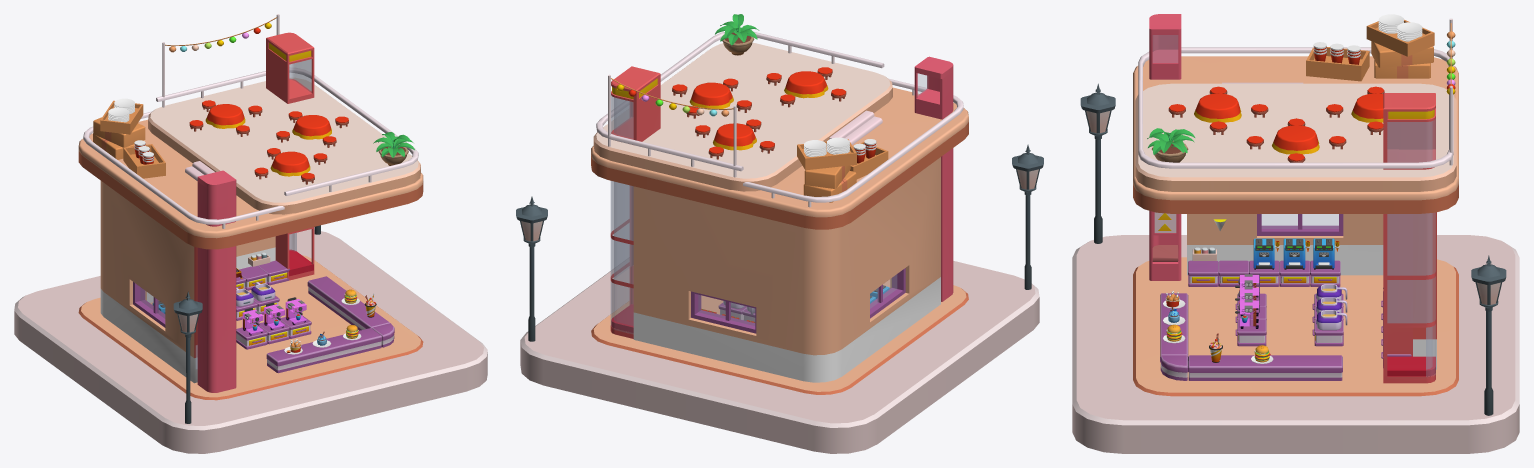
Rendered from Demo.fbx.
3 renders of one model, left to right at view 1: azimuth 30°, elevation 25°; view 2: azimuth 150°, elevation 25°; view 3: azimuth 270°, elevation 25°, orthographic. The views are drawn at different scales.
Parts seen in each view (by area): view 1: pCube12, polySurface241, polySurface11, pCube27, pCube11, Tm_food_1, Thang_may, Map02_Bantieptan1, polySurface242, Tm_food_2, Map02_Bantieptan2, polySurface243 (+13 smaller); view 2: polySurface11, pCube12, polySurface241, pCube27, Thang_may, pCube11, polySurface242, Tm_food_2, Tm_food_1, polySurface243, Map02_Decor_Thunggiay_14, Map02_Decor_Cotden3 (+12 smaller); view 3: pCube12, polySurface241, pCube11, pCube27, Thang_may, polySurface11, Map02_Bantieptan2, polySurface242, Tm_food_2, Map02_Decor_Thunggiay_13, Map02_Decor_Thunggiay_14, Map02_Decor_Cotden4 (+27 smaller).
Boxes of the visible parts, x1=… form: pCube12: x1=14, y1=229, x2=487, y2=453; polySurface241: x1=148, y1=78, x2=420, y2=214; polySurface11: x1=100, y1=181, x2=275, y2=383; pCube27: x1=78, y1=119, x2=423, y2=249; pCube11: x1=78, y1=255, x2=423, y2=400; Tm_food_1: x1=197, y1=246, x2=236, y2=392; Thang_may: x1=266, y1=32, x2=314, y2=280; Map02_Bantieptan1: x1=266, y1=328, x2=382, y2=373; polySurface242: x1=156, y1=67, x2=418, y2=195; Tm_food_2: x1=197, y1=170, x2=236, y2=226; Map02_Bantieptan2: x1=307, y1=276, x2=389, y2=330; polySurface243: x1=83, y1=111, x2=284, y2=224; polySurface11: x1=633, y1=157, x2=940, y2=382; pCube12: x1=520, y1=258, x2=1039, y2=453; polySurface241: x1=593, y1=42, x2=892, y2=191; pCube27: x1=591, y1=87, x2=968, y2=229; Thang_may: x1=610, y1=66, x2=660, y2=338; pCube11: x1=591, y1=279, x2=968, y2=394; polySurface242: x1=596, y1=32, x2=884, y2=171; Tm_food_2: x1=914, y1=56, x2=953, y2=119; Tm_food_1: x1=941, y1=148, x2=953, y2=301; polySurface243: x1=743, y1=78, x2=963, y2=202; Map02_Decor_Thunggiay_14: x1=797, y1=137, x2=856, y2=170; Map02_Decor_Cotden3: x1=1012, y1=144, x2=1043, y2=289; pCube12: x1=1072, y1=235, x2=1519, y2=453; polySurface241: x1=1135, y1=83, x2=1456, y2=191; pCube11: x1=1133, y1=257, x2=1458, y2=396; pCube27: x1=1133, y1=56, x2=1458, y2=213; Thang_may: x1=1383, y1=93, x2=1435, y2=383; polySurface11: x1=1187, y1=212, x2=1436, y2=369; Map02_Bantieptan2: x1=1188, y1=355, x2=1342, y2=380; polySurface242: x1=1138, y1=80, x2=1453, y2=168; Tm_food_2: x1=1149, y1=14, x2=1181, y2=79; Map02_Decor_Thunggiay_13: x1=1306, y1=42, x2=1369, y2=81; Map02_Decor_Thunggiay_14: x1=1366, y1=14, x2=1434, y2=56; Map02_Decor_Cotden4: x1=1471, y1=255, x2=1506, y2=415.
Bounding box in the file's own units: 2066 × 1662 × 2065.
